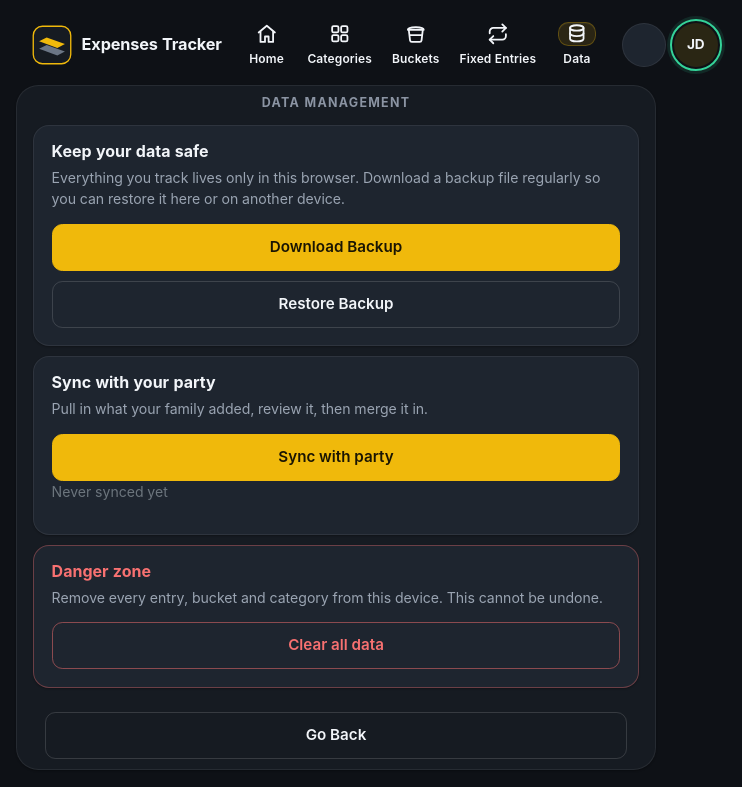
Scenario: category changes in the sync review › comes before the ordinary cards and counts as accepted in the summary
This screenshot has width=742, height=787.
Click the button "Sync with party" at coordinates (336, 457), box x1=52 y1=434 x2=620 y2=481
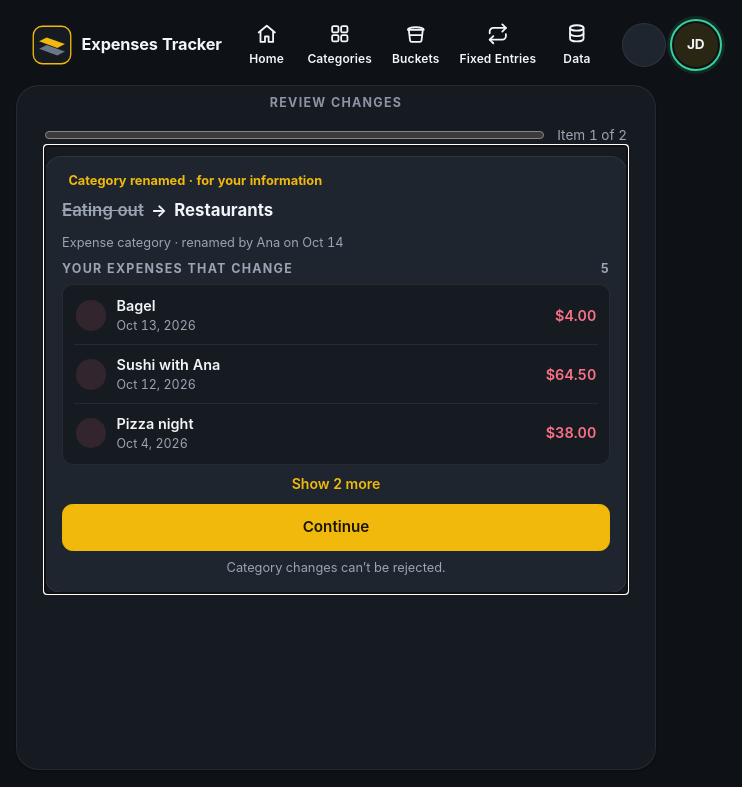
Expected: the text "Item 1 of 2" is shown, x1=557 y1=125 x2=627 y2=146
Click the button "Continue" at coordinates (336, 527), box x1=62 y1=504 x2=610 y2=551
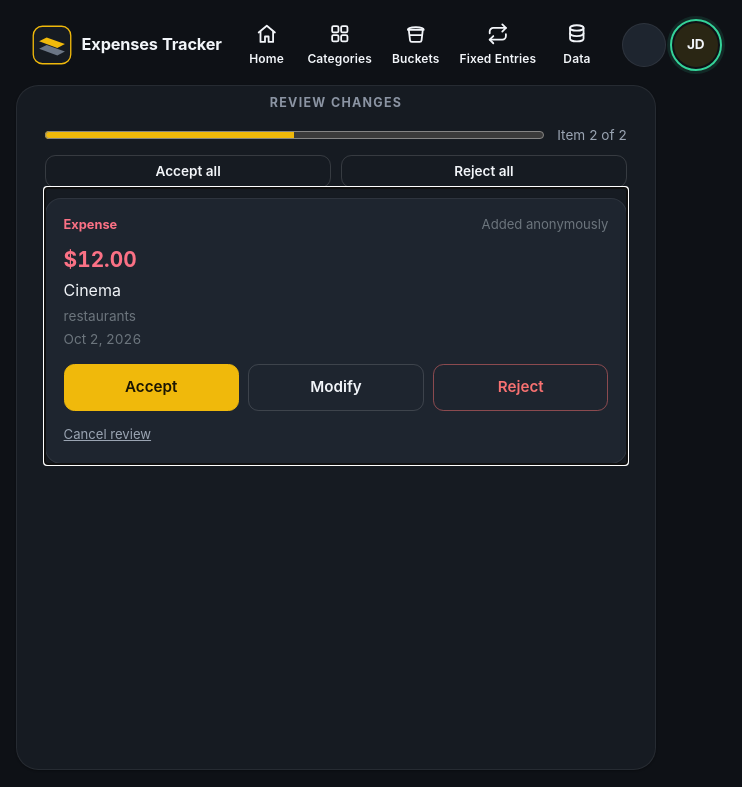
Expected: the text "Item 2 of 2" is shown, x1=557 y1=125 x2=627 y2=146
Expected: the text "Cinema" is shown, x1=64 y1=280 x2=121 y2=300
Click the button "Reject all" at coordinates (484, 171), box x1=341 y1=155 x2=627 y2=188
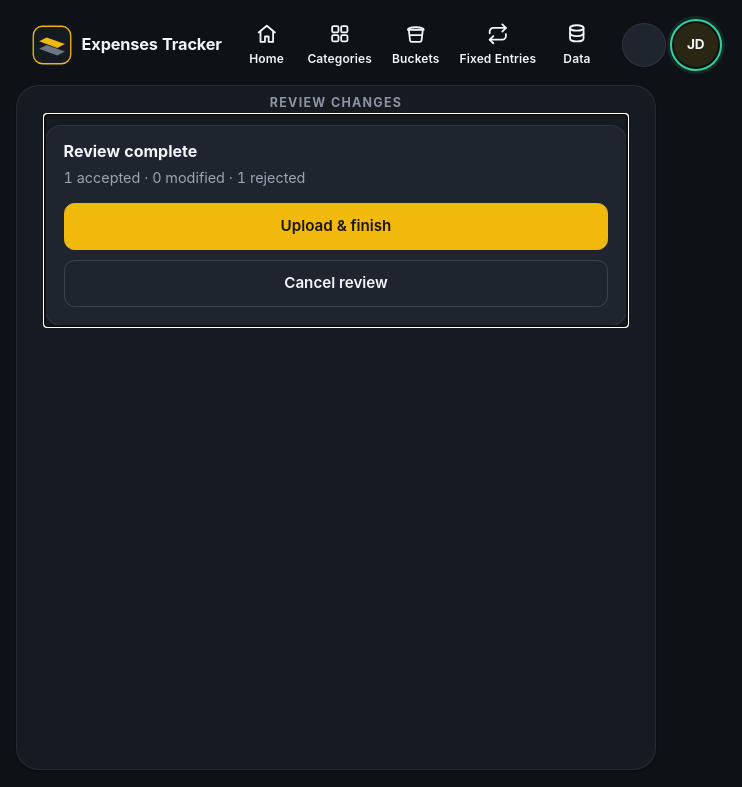
Expected: the heading "Review complete" is shown, x1=64 y1=141 x2=197 y2=161
Expected: the text "1 accepted · 0 modified · 1 rejected" is shown, x1=64 y1=169 x2=305 y2=186
